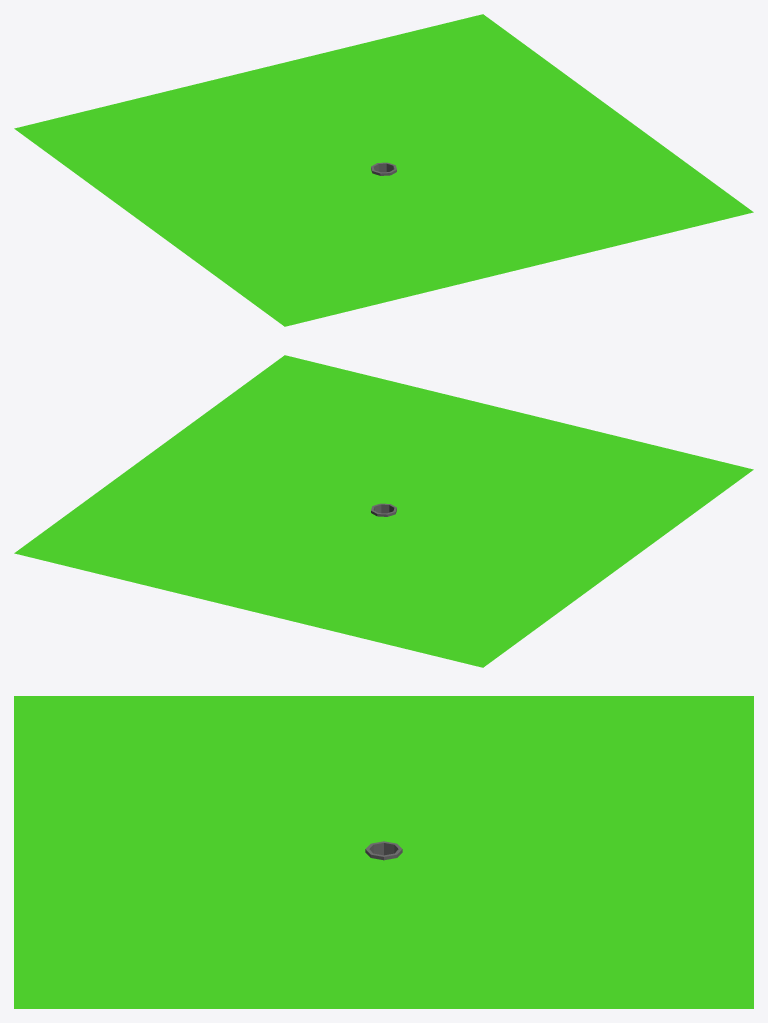
3 views of the same model, one above another, from view 1: azimuth 30°, elevation 25°; view 2: azimuth 150°, elevation 25°; view 3: azimuth 270°, elevation 25° (orthographic). The views are drawn at different scales.
Parts seen in each view (by area): view 1: Terre; view 2: Terre; view 3: Terre, Puits.
Part boxes in pixels (x1,y1,x2,y2): Terre: (14, 14, 753, 326); Terre: (14, 355, 753, 667); Terre: (14, 696, 753, 1008); Puits: (365, 841, 402, 860).
Bounding box in the file's own units: 200 × 31 × 200.
